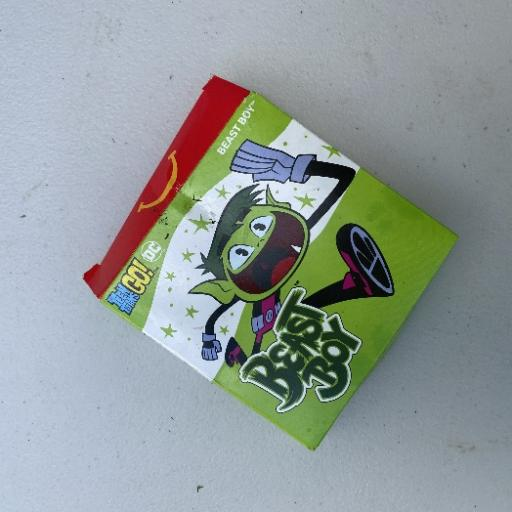Cardboard: (80, 74, 460, 452)
